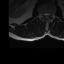CCS_normal: (45, 9, 47, 20)
LFS_normal: (50, 10, 52, 17)
LLS_normal: (47, 10, 50, 18)
RFS_stenosis: (41, 11, 43, 17)
RLS_normal: (43, 10, 45, 18)
